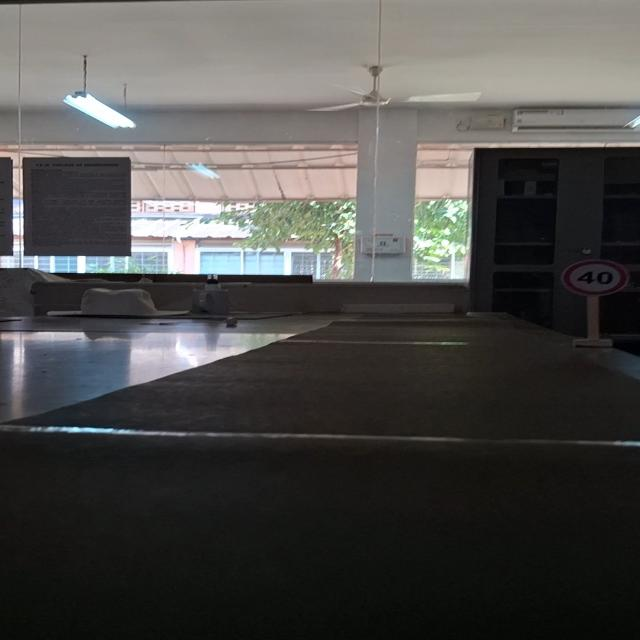Speed40: (559, 258, 633, 300)
